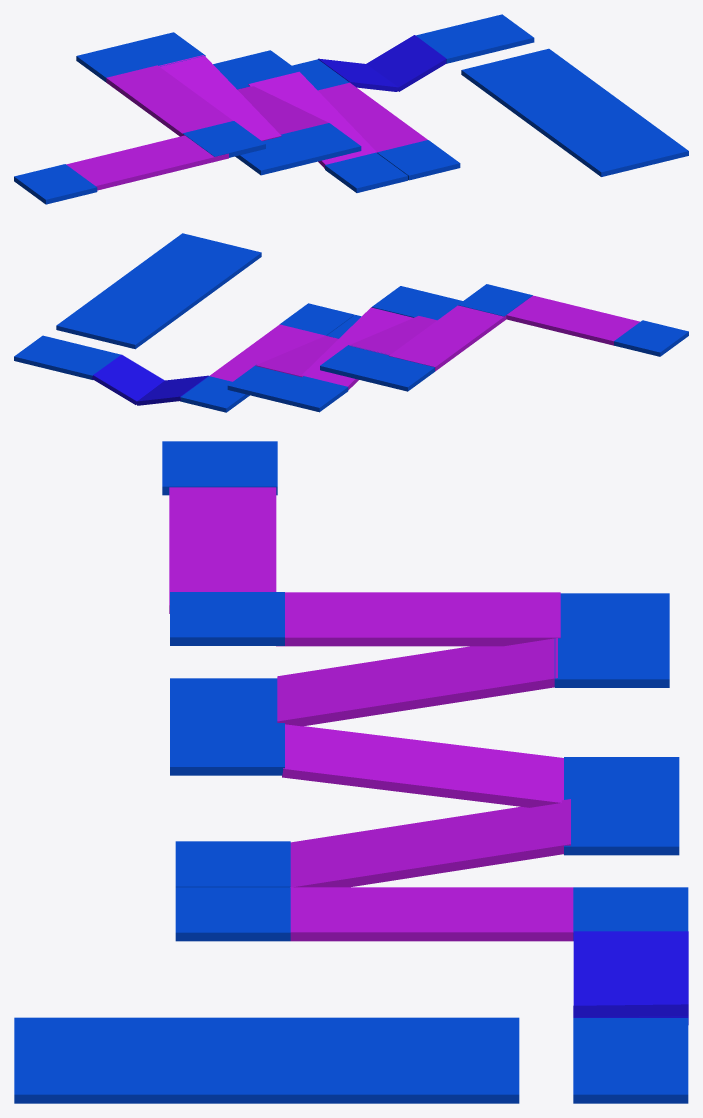
File: Slime climb.fbx
3 views of the same model, one above another, from view 1: azimuth 30°, elevation 25°; view 2: azimuth 150°, elevation 25°; view 3: azimuth 270°, elevation 25° (orthographic). The views are drawn at different scales.
Visible parts, largest first — view 1: Cube.020, Cube.016, Cube.018, Cube.013, Cube.010, Cube.001, Cube.007, Cube, Cube.019, Cube.006, Cube.005, Cube.011 (+9 smaller); view 2: Cube.020, Cube.016, Cube.018, Cube.001, Cube.010, Cube.004, Cube, Cube.019, Cube.009, Cube.015, Cube.014, Cube.013 (+8 smaller); view 3: Cube.020, Cube.010, Cube.004, Cube.007, Cube.016, Cube.013, Cube.018, Cube.001, Cube.002, Cube.005, Cube.017, Cube.011 (+9 smaller).
Boxes of the visible parts, <box> form: Cube.020: <box>461,48,688,176</box>; Cube.016: <box>106,65,232,136</box>; Cube.018: <box>66,135,228,190</box>; Cube.013: <box>159,55,281,141</box>; Cube.010: <box>318,82,427,152</box>; Cube.001: <box>416,14,534,63</box>; Cube.007: <box>248,71,376,168</box>; Cube: <box>366,35,446,91</box>; Cube.019: <box>14,164,97,204</box>; Cube.006: <box>325,152,407,192</box>; Cube.005: <box>377,140,460,180</box>; Cube.011: <box>280,123,361,163</box>; Cube.020: <box>56,233,261,349</box>; Cube.016: <box>389,305,506,371</box>; Cube.018: <box>506,295,639,345</box>; Cube.001: <box>14,335,120,379</box>; Cube.010: <box>209,324,325,381</box>; Cube.004: <box>302,307,413,389</box>; Cube: <box>91,354,164,404</box>; Cube.019: <box>614,320,688,356</box>; Cube.009: <box>273,376,348,412</box>; Cube.015: <box>361,357,434,391</box>; Cube.014: <box>320,345,392,381</box>; Cube.013: <box>349,316,436,355</box>; Cube.020: <box>14,1017,519,1103</box>; Cube.010: <box>290,887,573,941</box>; Cube.004: <box>282,724,563,807</box>; Cube.007: <box>290,799,570,887</box>; Cube.016: <box>276,592,560,646</box>; Cube.013: <box>277,638,557,726</box>; Cube.018: <box>169,487,276,613</box>; Cube.001: <box>573,1018,688,1103</box>; Cube.002: <box>573,931,688,1005</box>; Cube.005: <box>175,887,290,941</box>; Cube.017: <box>170,592,284,645</box>; Cube.011: <box>170,723,284,775</box>.
Bounding box in the file's own units: 26045 × 3701 × 13995.
